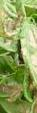Tomato leaf mosaic virus: (16, 25, 37, 102)
